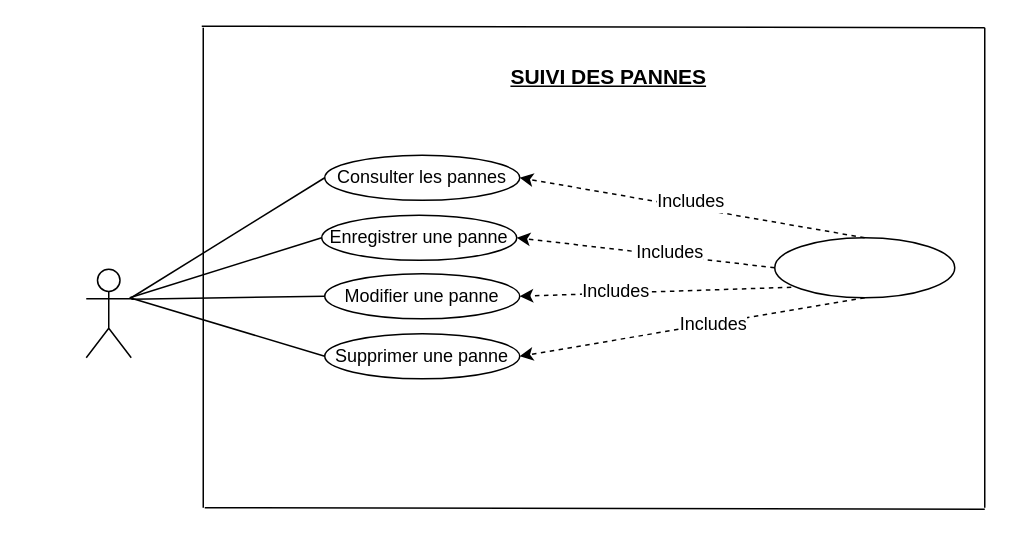
Some shapes in this 1013 by 537 pixel diagram are drawn without their labels. Each missing label, with the centre of its shape:
S'authentifier: point (864, 267)
TECHNICIEN INFRASTRUCTURE: point (108, 313)
